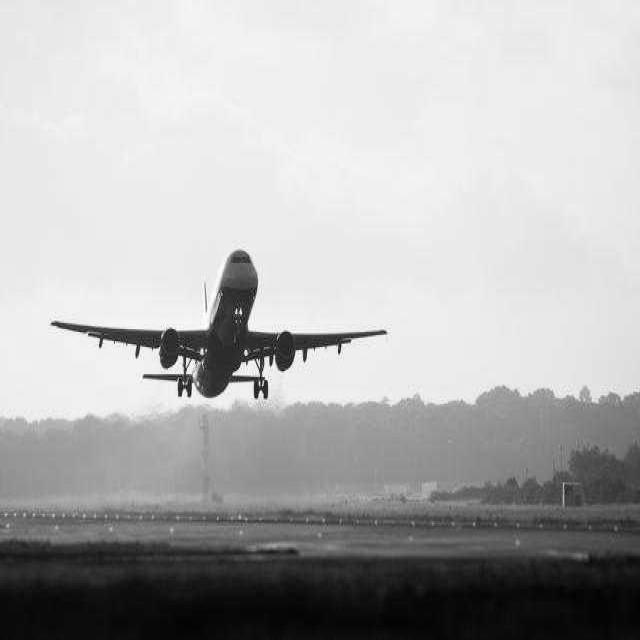Aircraft: (47, 242, 387, 410)
